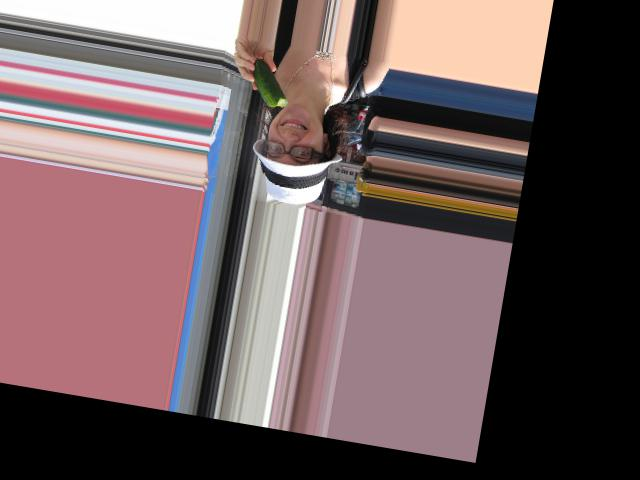cucumber: (246, 57, 293, 109)
